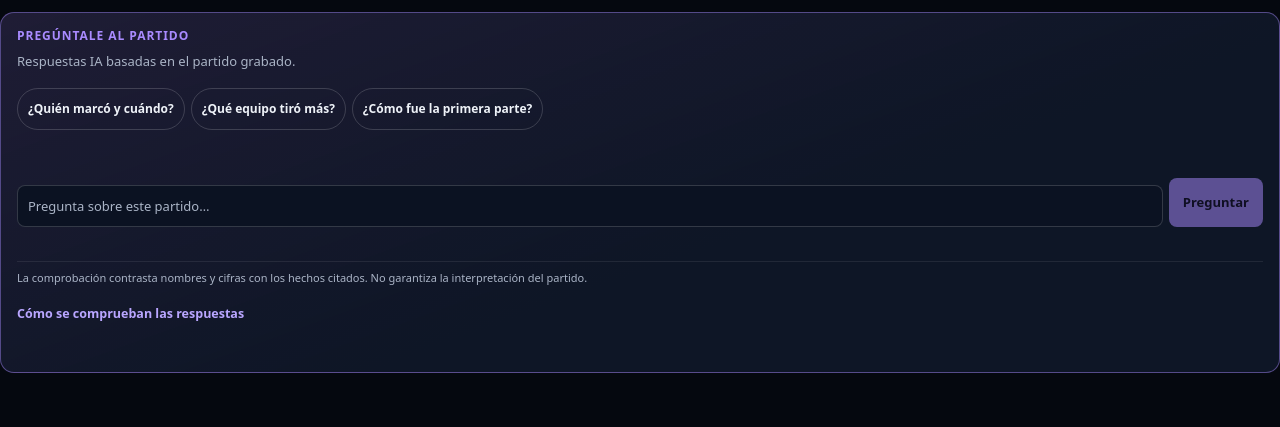
Test: keeps a facts-only fallback and its scope visible while its receipt stays folded
The image size is (1280, 427).
Click the button "¿Quién marcó y cuándo?".
click(101, 108)  # box [17,88,185,130]
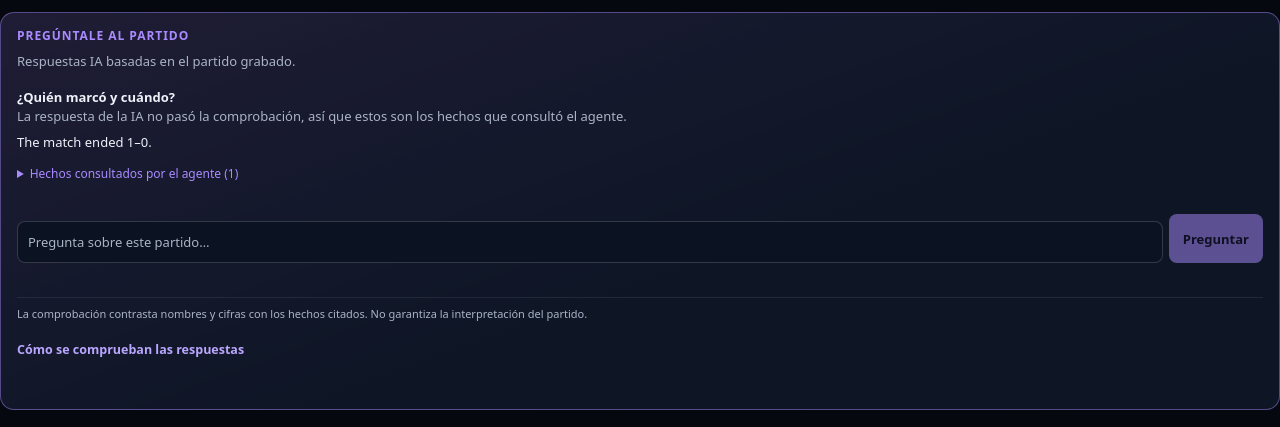
Expected: the text "No garantiza la interpretación" is shown, [17,306,587,321]
Now the text "La respuesta de la IA no pasó la comprobación" is shown, box [17,107,627,125]
Now the text "The match ended 1–0." is shown, box [17,132,152,150]
